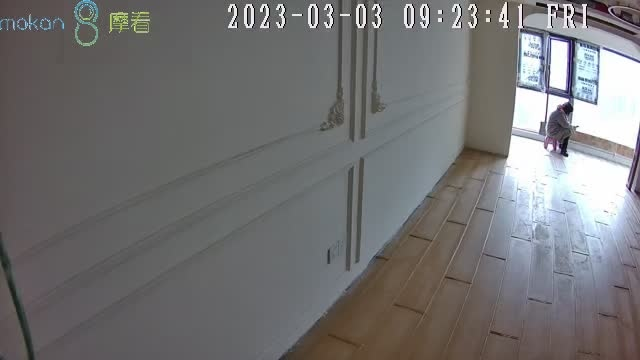people: (548, 102, 574, 157)
window: (518, 26, 640, 155)
